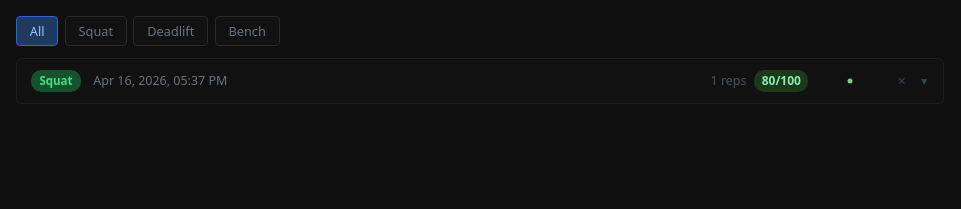
Test: HistoryView — expand / collapse › collapses a session when its header is clicked again
Click the button "Squat Apr 16, 2026, 05:37 PM 1 reps 80/100 ✕ ▼" at (56, 81), box [17,59,943,103]
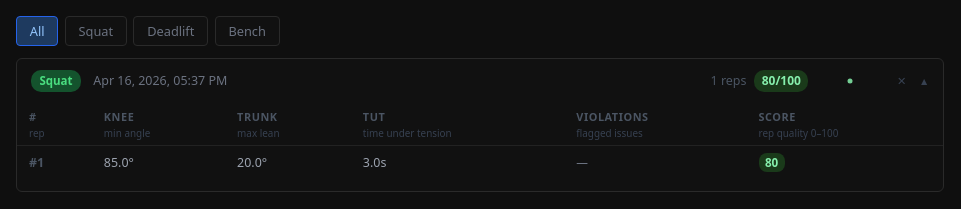
Click the button "Squat Apr 16, 2026, 05:37 PM 1 reps 80/100 ✕ ▲" at (56, 81), box [17,59,943,103]
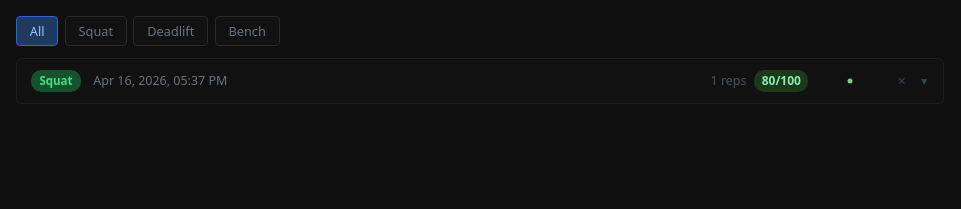
Check: the text "#1" is gone
